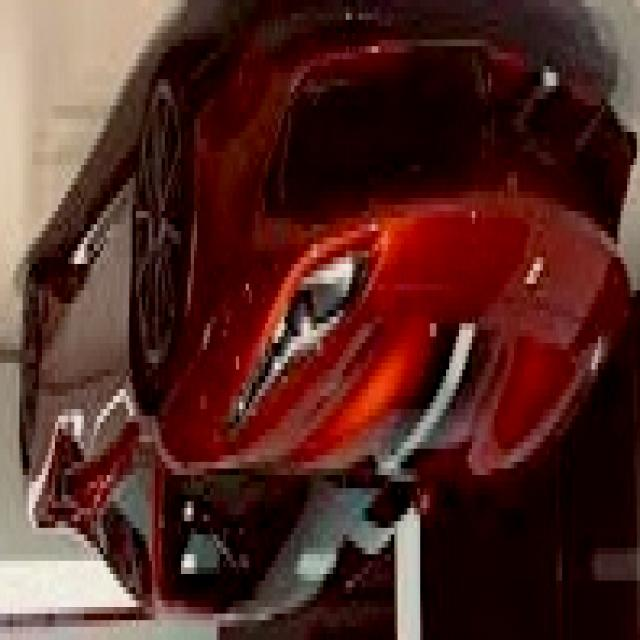red: (20, 52, 625, 623)
